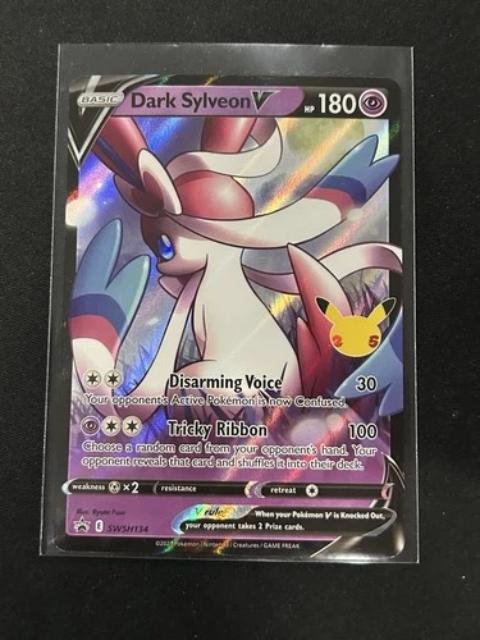Card: (46, 70, 412, 564)
Name: (123, 87, 288, 116)
